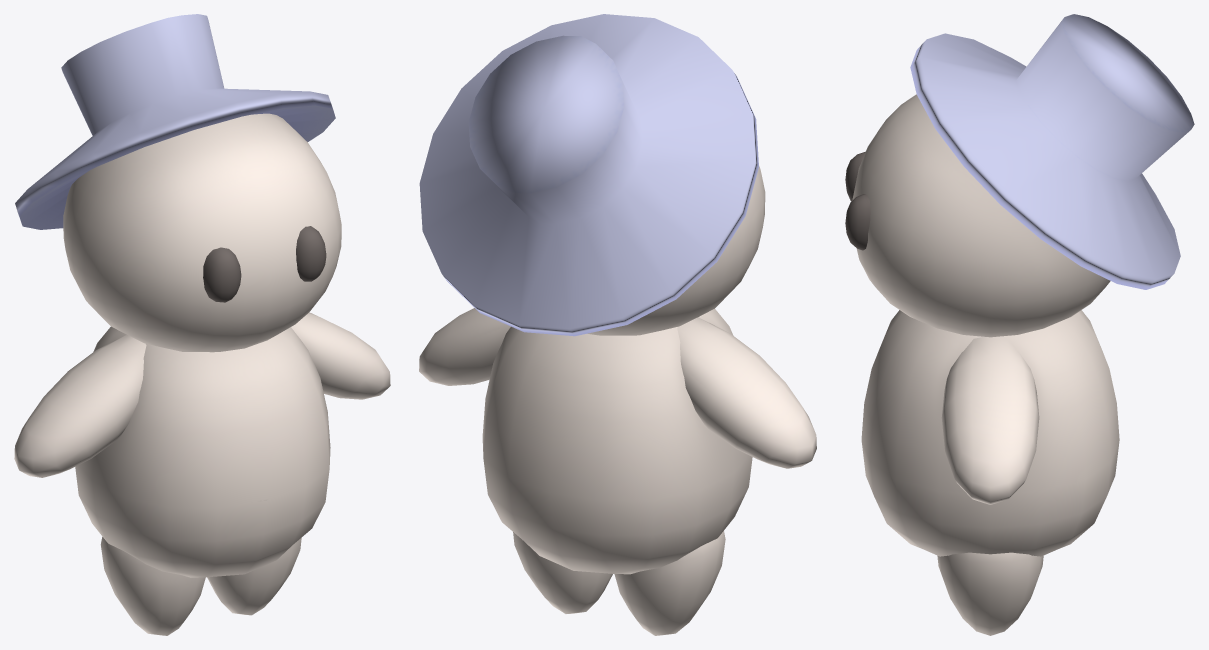
Rendered from chubtex_0001.fbx.
3 renders of one model, left to right at view 1: azimuth 30°, elevation 25°; view 2: azimuth 150°, elevation 25°; view 3: azimuth 270°, elevation 25°, orthographic. The views are drawn at different scales.
Parts seen in each view (by area): view 1: pCylinder1; view 2: pCylinder1; view 3: pCylinder1.
Boxes of the visible parts, x1,y1,x2,y2 form: pCylinder1: [14, 14, 390, 635]; pCylinder1: [419, 14, 816, 635]; pCylinder1: [845, 14, 1194, 635].
Bounding box in the file's own units: 1.16 × 1.75 × 0.9374.
Materials: 3 (2 with a texture image).
